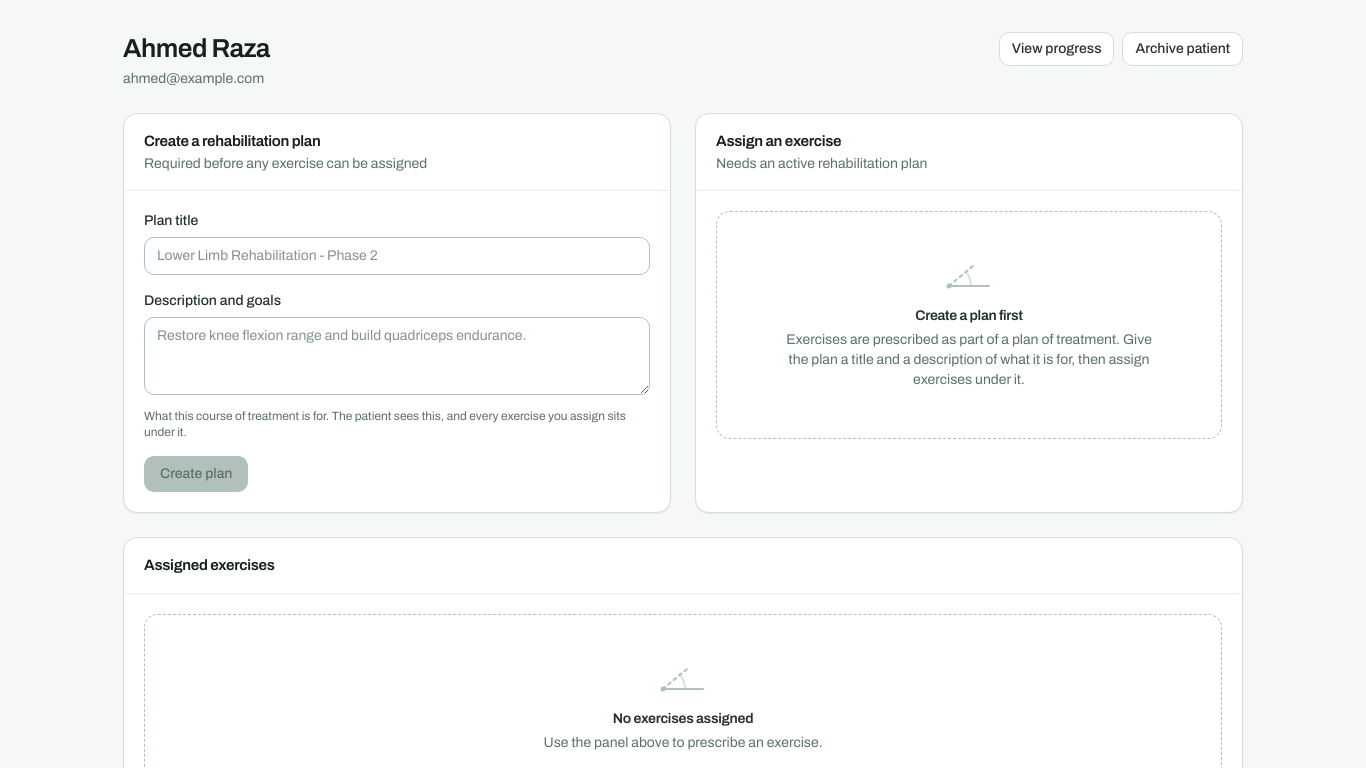
it: Archiving a patient › warns that access ends and that nothing is deleted
Click the button "Archive patient" at (1183, 49), box [1122,32,1243,66]
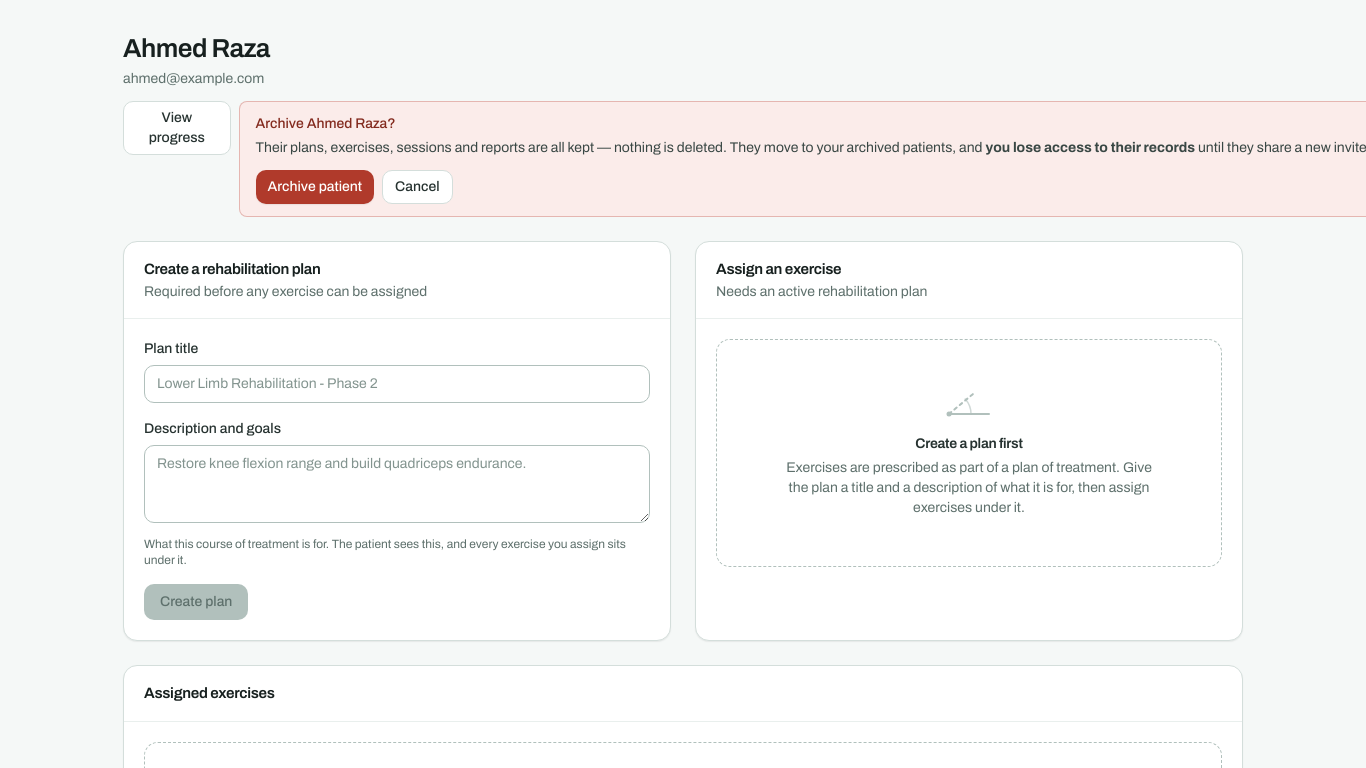
Expected: the dialog shows "nothing is deleted", [256,140,983,154]
Expected: the dialog shows "you lose access to their records", [986,140,1195,154]
